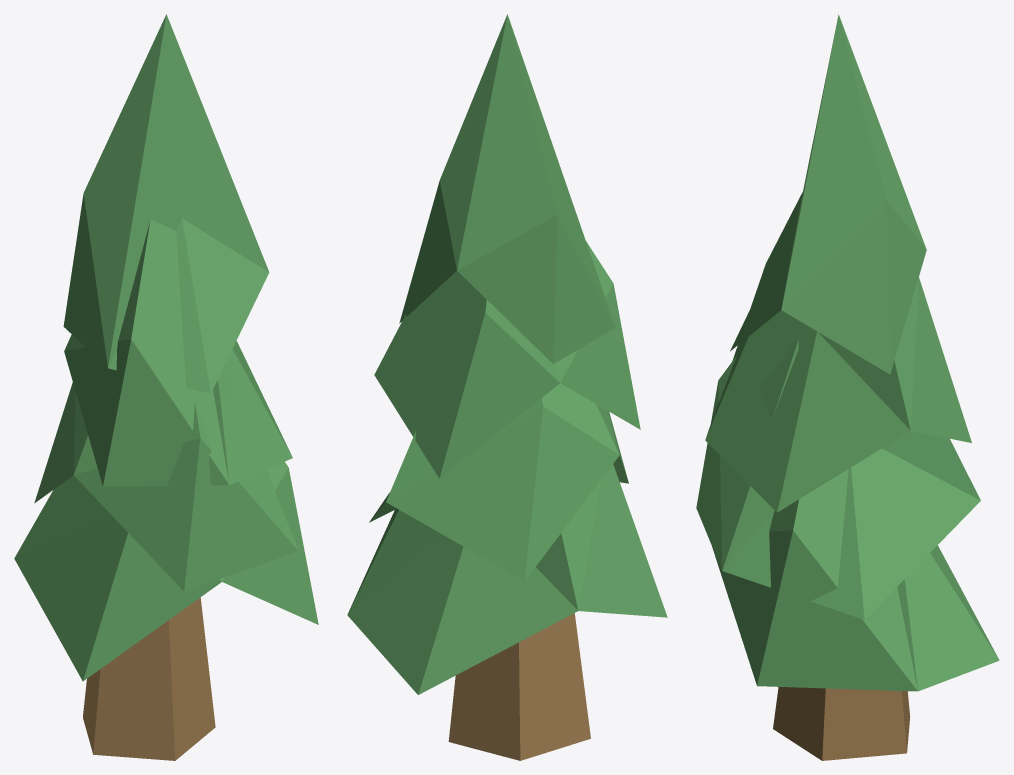
Rendered from tree.fbx.
3 views of the same model, side by side, from view 1: azimuth 30°, elevation 25°; view 2: azimuth 150°, elevation 25°; view 3: azimuth 270°, elevation 25° (orthographic). The views are drawn at different scales.
Parts seen in each view (by area): view 1: polySurface168; view 2: polySurface168; view 3: polySurface168.
Boxes of the visible parts, left/top/right/bottom form: polySurface168: left=14, top=14, right=318, bottom=760; polySurface168: left=347, top=14, right=667, bottom=760; polySurface168: left=696, top=14, right=999, bottom=760.
Size of the model in its own units: 3.22 by 8.82 by 3.34.
